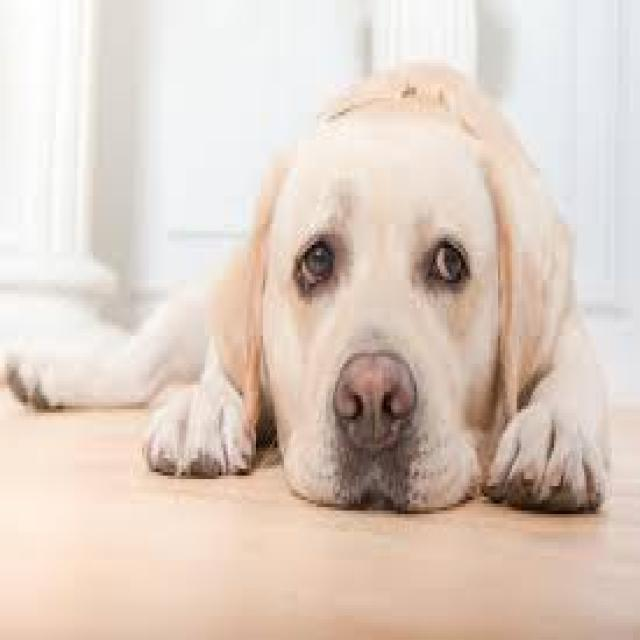dog: (8, 60, 612, 515)
